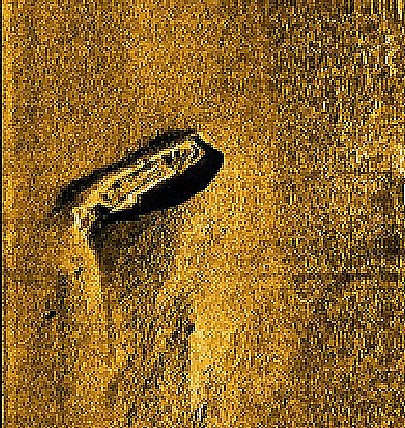ship: (67, 136, 207, 231)
